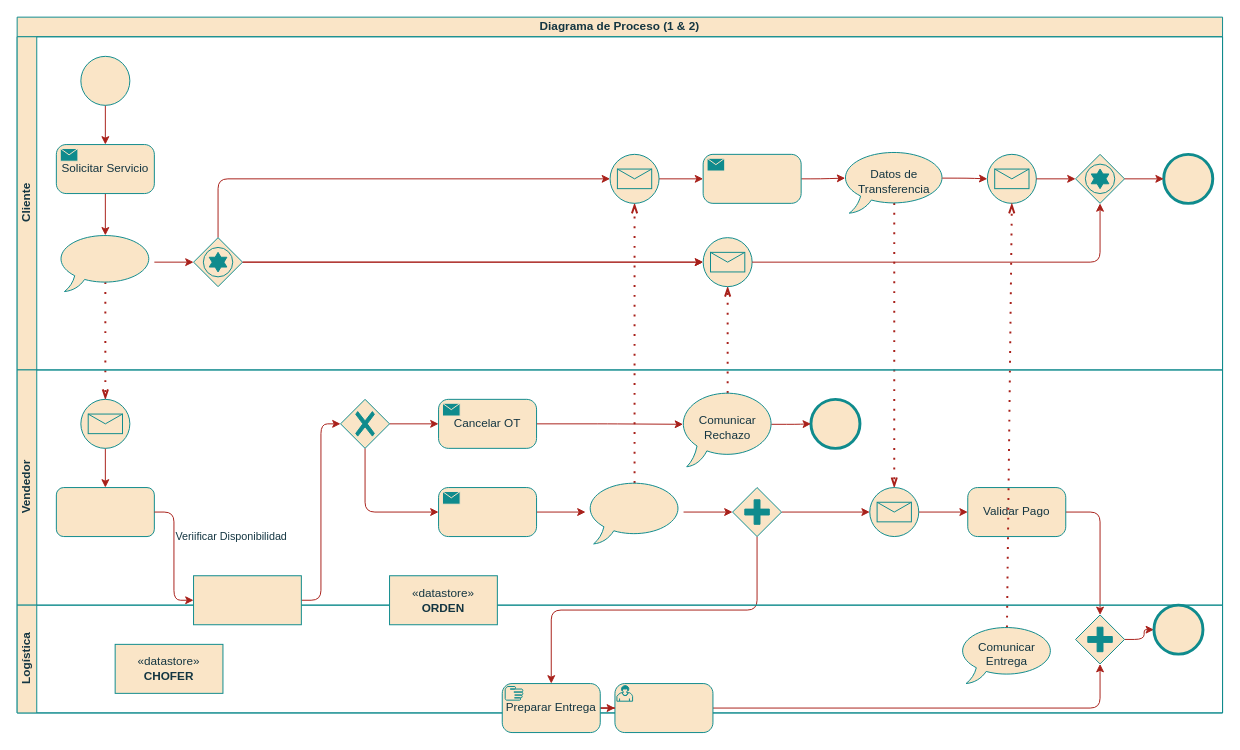
Image size: 1240x750. Some labels were removed from this diagram. The centre of each missing label's shape, as x and y in pixels:
"Comunicar Cotización" belongs at (634,511).
"Cotizar" belongs at (487,512).
"Datos de Carga" belongs at (104,262).
"Hacer Entrega" belongs at (663,708).
"Hacer Transferencia" belongs at (751,178).
"Tomar Datos de Carga" belongs at (104,512).
"«datastore» CAMIÓN" belongs at (247,600).
